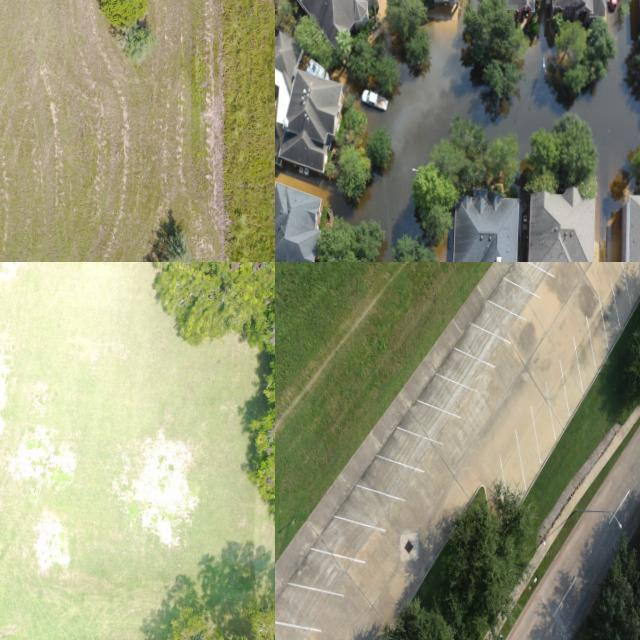fire: (282, 8, 564, 260), (571, 13, 640, 241)
